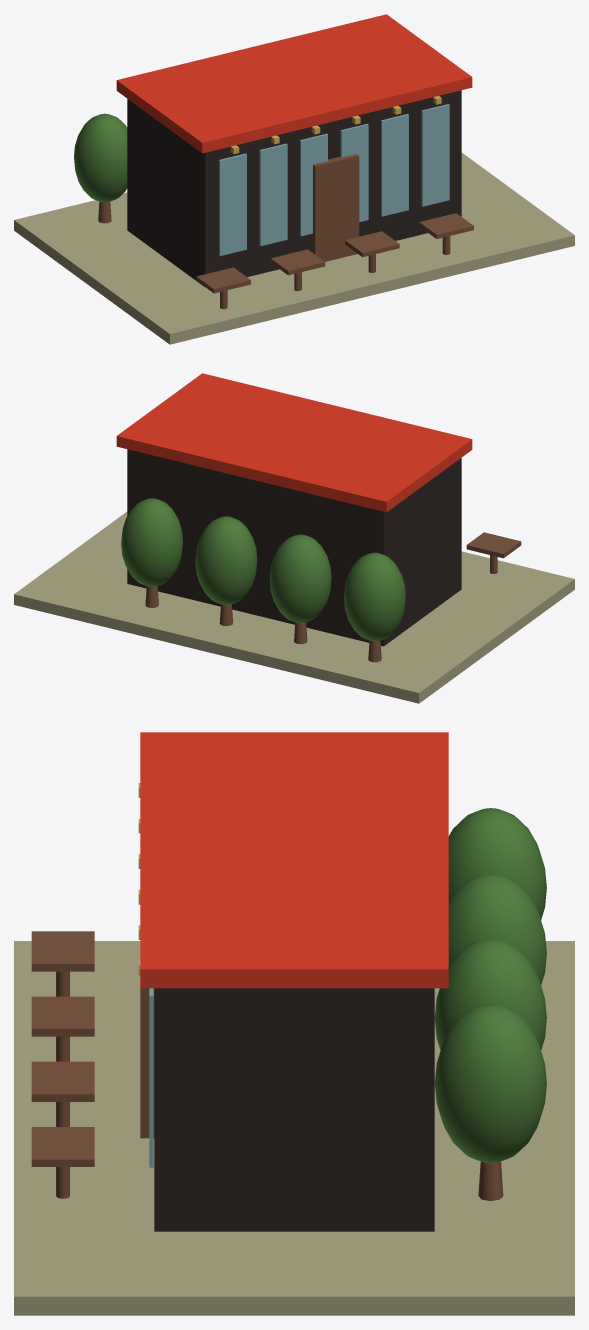
The model's file is building.glb.
3 renders of one model, top to bottom at view 1: azimuth 30°, elevation 25°; view 2: azimuth 150°, elevation 25°; view 3: azimuth 270°, elevation 25°, orthographic. The views are drawn at different scales.
Size of the model in its own units: 6 by 2.26 by 4.
